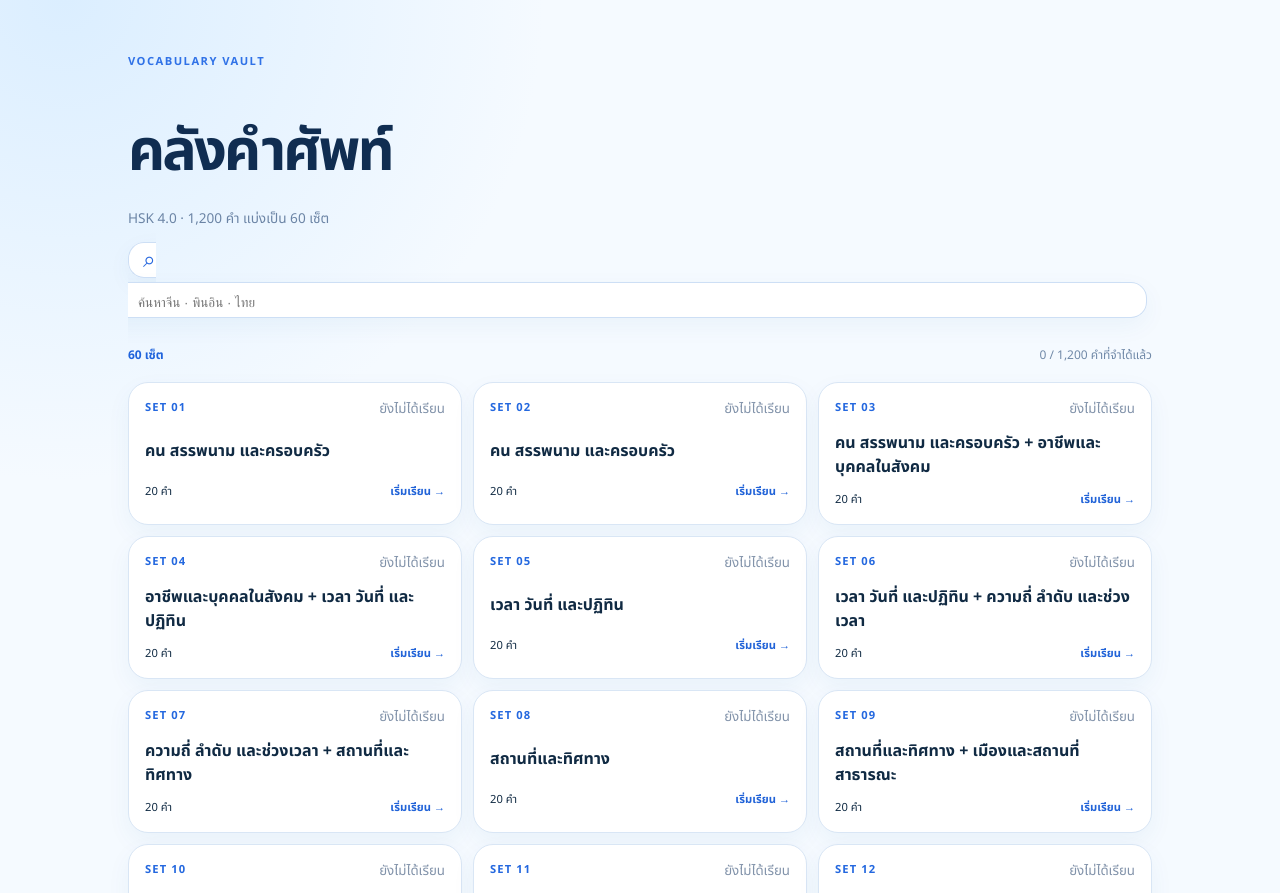
Test case: searches vocabulary by Thai meaning and previews the matching Chinese word
Step 1. Type "พ่อ" into the field named "ค้นหาคำศัพท์" → (634, 302), box 136,277 -> 1132,328
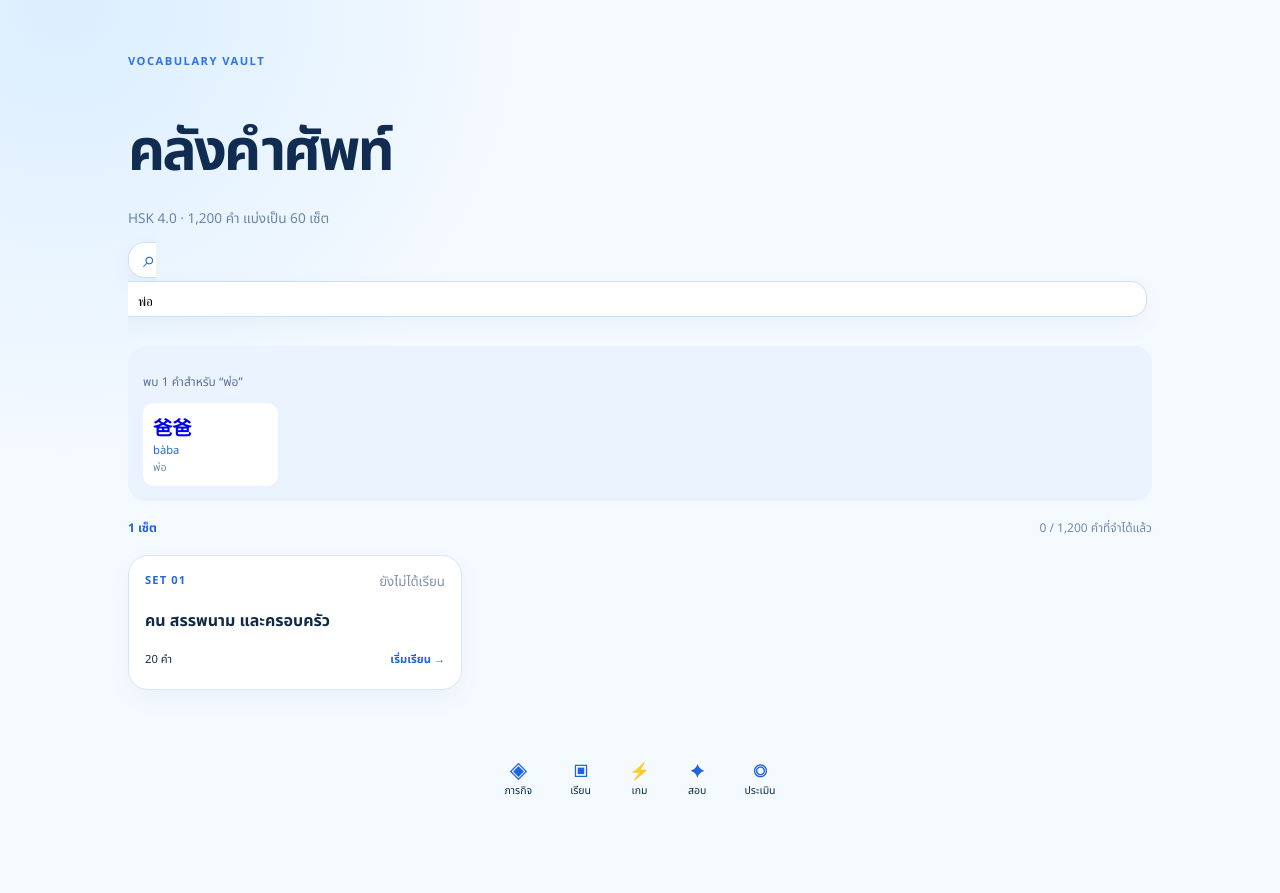
Result: the text "爸爸" is shown at 153,413 -> 191,441
